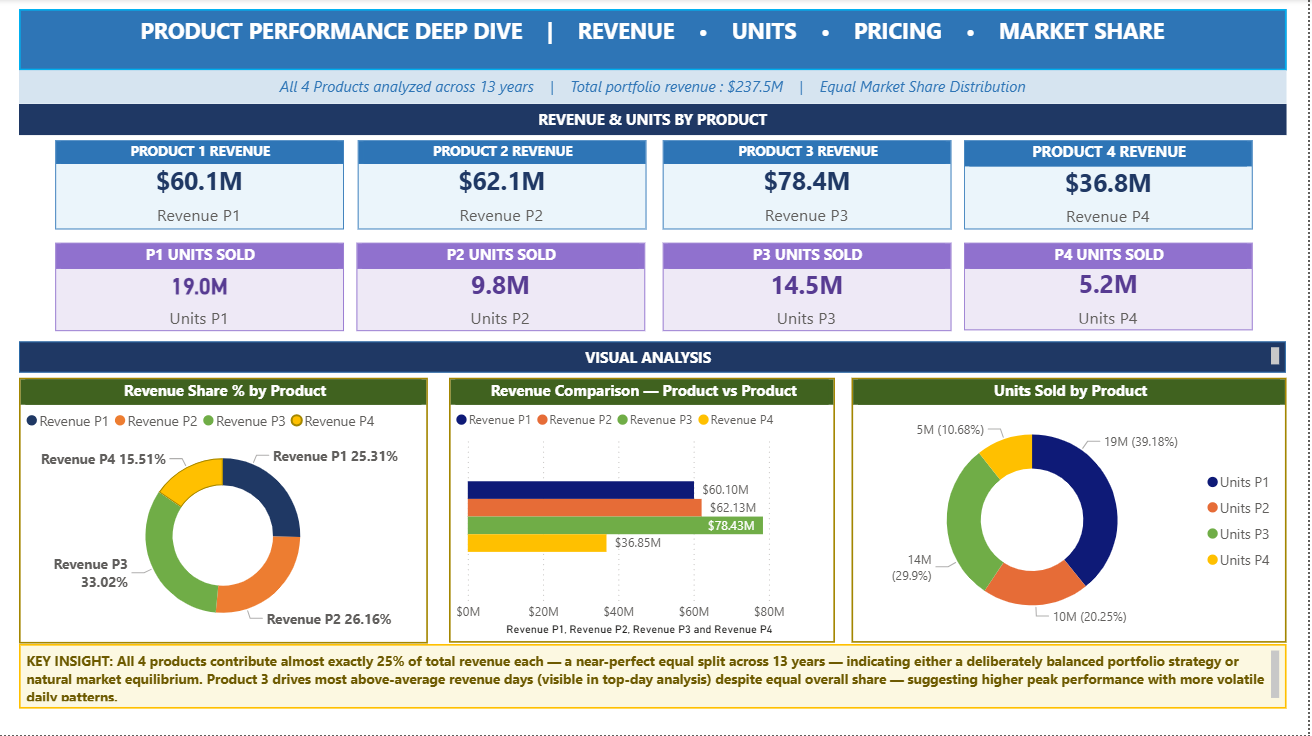

Layout of this report page (visuals, bound fields, positions):
{"tool":"powerbi","page":{"name":"Product Analysis","canvas":[1280,720],"ordinal":1},"visuals":[{"type":"textbox","box":[20,10,1240,60],"z":0},{"type":"textbox","box":[19.6,69.7,1240,33],"z":1000},{"type":"textbox","box":[19.6,102.7,1240,30.6],"z":2000},{"type":"card","title":"PRODUCT 1 REVENUE","fields":{"Values":["SALESDATA.Revenue P1"]},"box":[55,138.2,282,86.8],"z":3000},{"type":"card","title":"PRODUCT 2 REVENUE","fields":{"Values":["SALESDATA.Revenue P2"]},"box":[351,138.2,282,86.8],"z":4000},{"type":"card","title":"PRODUCT 3 REVENUE","fields":{"Values":["SALESDATA.Revenue P3"]},"box":[649.3,138.2,282.5,86.8],"z":5000},{"type":"card","title":"PRODUCT 4 REVENUE","fields":{"Values":["SALESDATA.Revenue P4"]},"box":[944,138.2,282.5,86.8],"z":6000},{"type":"card","title":"P1 UNITS SOLD","fields":{"Values":["SALESDATA.Units P1"]},"box":[55,238.5,282.5,86],"z":7000},{"type":"card","title":"P2 UNITS SOLD","fields":{"Values":["SALESDATA.Units P2"]},"box":[350,238,282,86],"z":8000},{"type":"card","title":"P3 UNITS SOLD","fields":{"Values":["SALESDATA.Units P3"]},"box":[649,238,282,86],"z":9000},{"type":"card","title":"P4 UNITS SOLD","fields":{"Values":["SALESDATA.Units P4"]},"box":[944,238.5,282.5,85.6],"z":10000},{"type":"textbox","box":[20,335,1239,30],"z":11000},{"type":"donutChart","title":"Revenue Share % by Product","fields":{"Y":["SALESDATA.Revenue P1","SALESDATA.Revenue P2","SALESDATA.Revenue P3","SALESDATA.Revenue P4"]},"box":[20,370,400,260],"z":12000},{"type":"clusteredBarChart","title":"Revenue Comparison — Product vs Product","fields":{"Y":["SALESDATA.Revenue P1","SALESDATA.Revenue P2","SALESDATA.Revenue P3","SALESDATA.Revenue P4"]},"box":[440.2,370.5,377.9,259.2],"z":13000},{"type":"donutChart","title":"Units Sold by Product","fields":{"Y":["SALESDATA.Units P1","SALESDATA.Units P2","SALESDATA.Units P3","SALESDATA.Units P4"]},"box":[834,370.5,425.5,259.2],"z":14000},{"type":"textbox","box":[19.6,631,1240,63.6],"z":15000}]}

Visuals, with their boxes in screenshot pixels (x1, y1, x2, y2), scaled from the page's 1280x720 canvas onto the 1312x736 screenshot:
textbox: 20:10:1292:72
textbox: 20:71:1291:105
textbox: 20:105:1291:136
"PRODUCT 1 REVENUE" card: 56:141:345:230
"PRODUCT 2 REVENUE" card: 360:141:649:230
"PRODUCT 3 REVENUE" card: 666:141:955:230
"PRODUCT 4 REVENUE" card: 968:141:1257:230
"P1 UNITS SOLD" card: 56:244:346:332
"P2 UNITS SOLD" card: 359:243:648:331
"P3 UNITS SOLD" card: 665:243:954:331
"P4 UNITS SOLD" card: 968:244:1257:331
textbox: 20:342:1290:373
"Revenue Share % by Product" donutChart: 20:378:430:644
"Revenue Comparison — Product vs Product" clusteredBarChart: 451:379:839:644
"Units Sold by Product" donutChart: 855:379:1291:644
textbox: 20:645:1291:710
